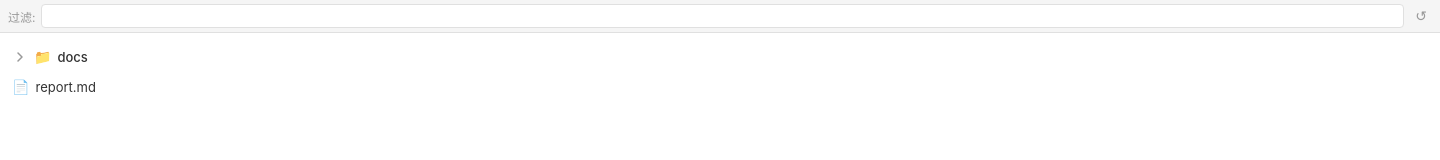
FileTree › 隐式文件过滤 › 过滤时应该显示命中文件的父目录，即使父目录原本折叠
Expected: the text "guide.md" is not shown
Step 1. Click the element showing "📁 docs 📄 report.md" → (73, 56), box [12, 48, 96, 95]
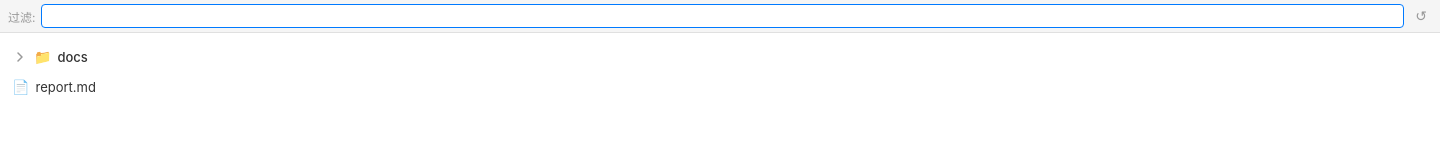
Step 2. Type "g" into the field named "文件过滤" → (723, 16), box [42, 4, 1404, 28]
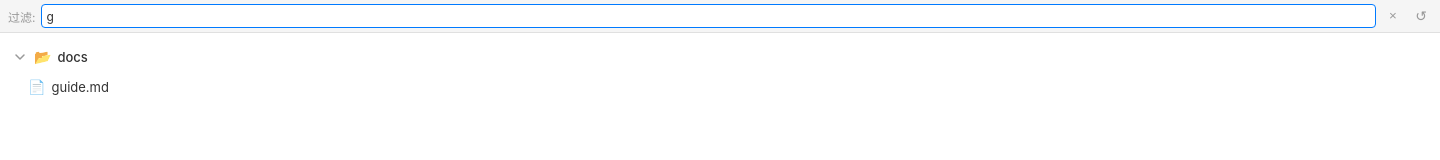
Expected: the text "docs" is shown, [58, 48, 88, 64]
Expected: the text "guide.md" is shown, [52, 78, 109, 94]
Expected: the text "report.md" is gone
